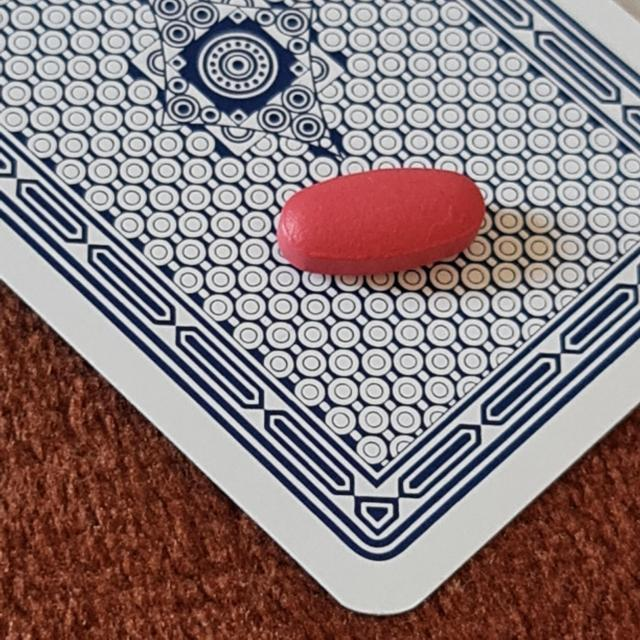pill: (280, 168, 483, 276)
